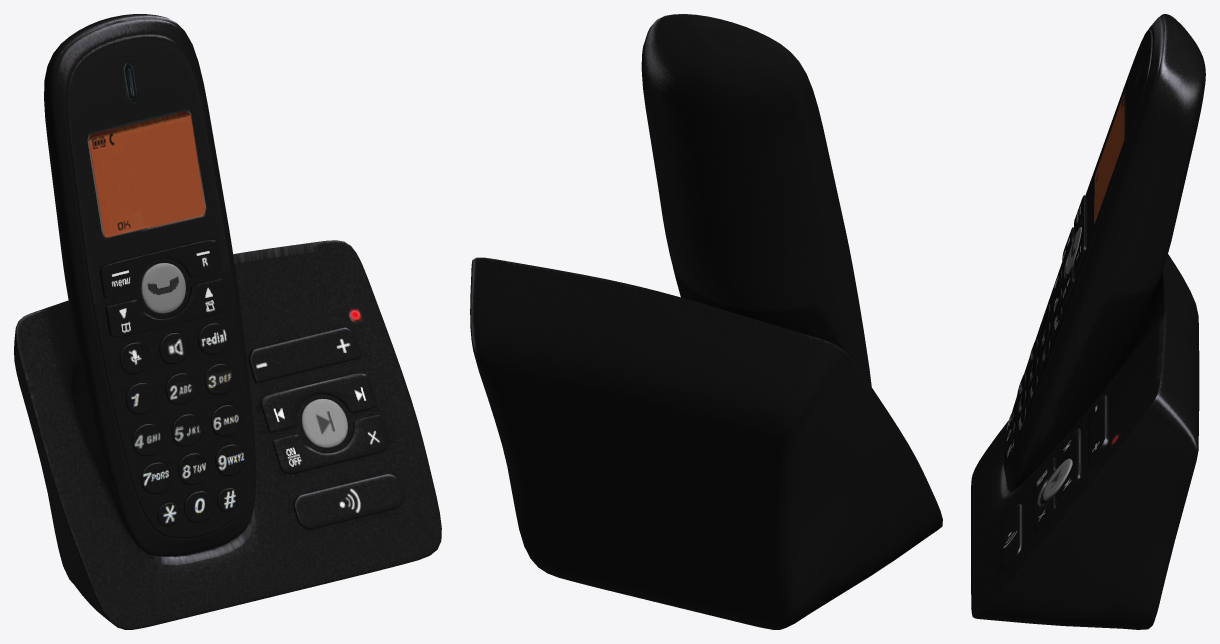
The picture shows the model from 3 angles, left to right: view 1: azimuth 30°, elevation 25°; view 2: azimuth 150°, elevation 25°; view 3: azimuth 270°, elevation 25°; orthographic projection. The views are drawn at different scales.
Visible parts, largest first — view 1: 10109_Cordless Phone_v2_Iteration2; view 2: 10109_Cordless Phone_v2_Iteration2; view 3: 10109_Cordless Phone_v2_Iteration2.
Part boxes in pixels (box(x1,y1,x2,y2)): 10109_Cordless Phone_v2_Iteration2: box(14, 14, 441, 629); 10109_Cordless Phone_v2_Iteration2: box(470, 14, 942, 629); 10109_Cordless Phone_v2_Iteration2: box(971, 14, 1205, 629).
Size of the model in its own units: 14.16 by 21 by 8.49.
Materials: 1 (1 with a texture image).
